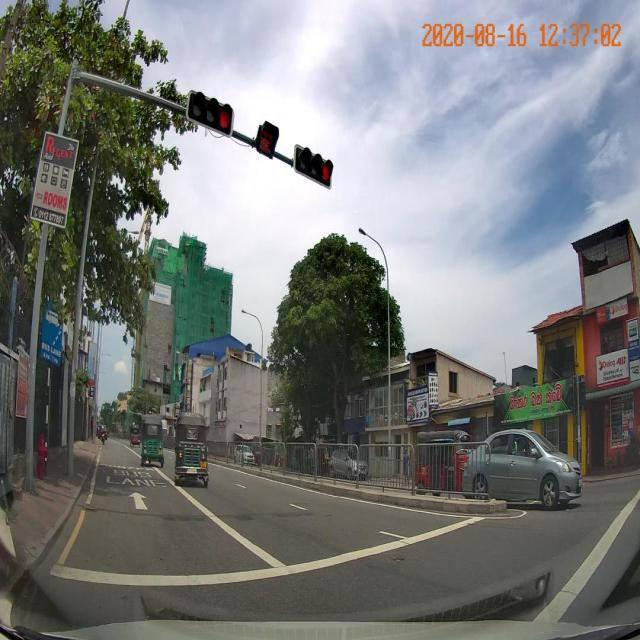BUS LANE: (107, 467, 170, 490)
Strelka vpered: (128, 490, 149, 510)
